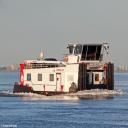tugboat: (12, 43, 124, 101)
